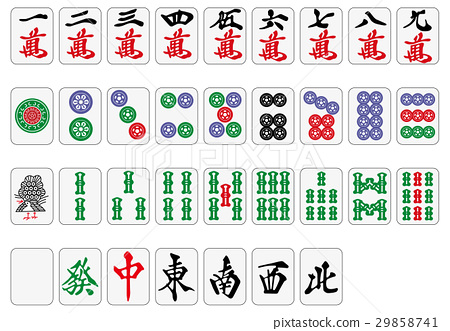1W: (9, 5, 54, 67)
1i: (12, 171, 50, 222)
1o: (9, 86, 55, 146)
2W: (58, 5, 103, 68)
2i: (68, 169, 89, 223)
2o: (57, 87, 102, 146)
3W: (106, 4, 149, 66)
3i: (113, 170, 146, 223)
3o: (107, 86, 152, 147)
4W: (154, 6, 199, 64)
4i: (161, 169, 193, 221)
5W: (203, 6, 248, 63)
5i: (207, 169, 243, 222)
5o: (154, 85, 198, 147), (208, 90, 243, 140)
6W: (251, 6, 295, 65), (256, 89, 290, 141)
6i: (255, 170, 292, 222)
7W: (301, 7, 340, 62)
7i: (303, 169, 340, 222)
7o: (302, 90, 340, 143)
8W: (347, 6, 391, 66)
8i: (351, 170, 389, 221)
8o: (354, 89, 385, 142)
9W: (396, 6, 439, 65)
9i: (400, 170, 436, 222)
9o: (399, 90, 437, 141)
East: (157, 249, 198, 304)
Green: (63, 253, 98, 302)
North: (301, 251, 340, 301)
Red: (110, 250, 146, 304)
South: (204, 248, 246, 305)
West: (251, 247, 297, 309)
White: (5, 245, 57, 308)
